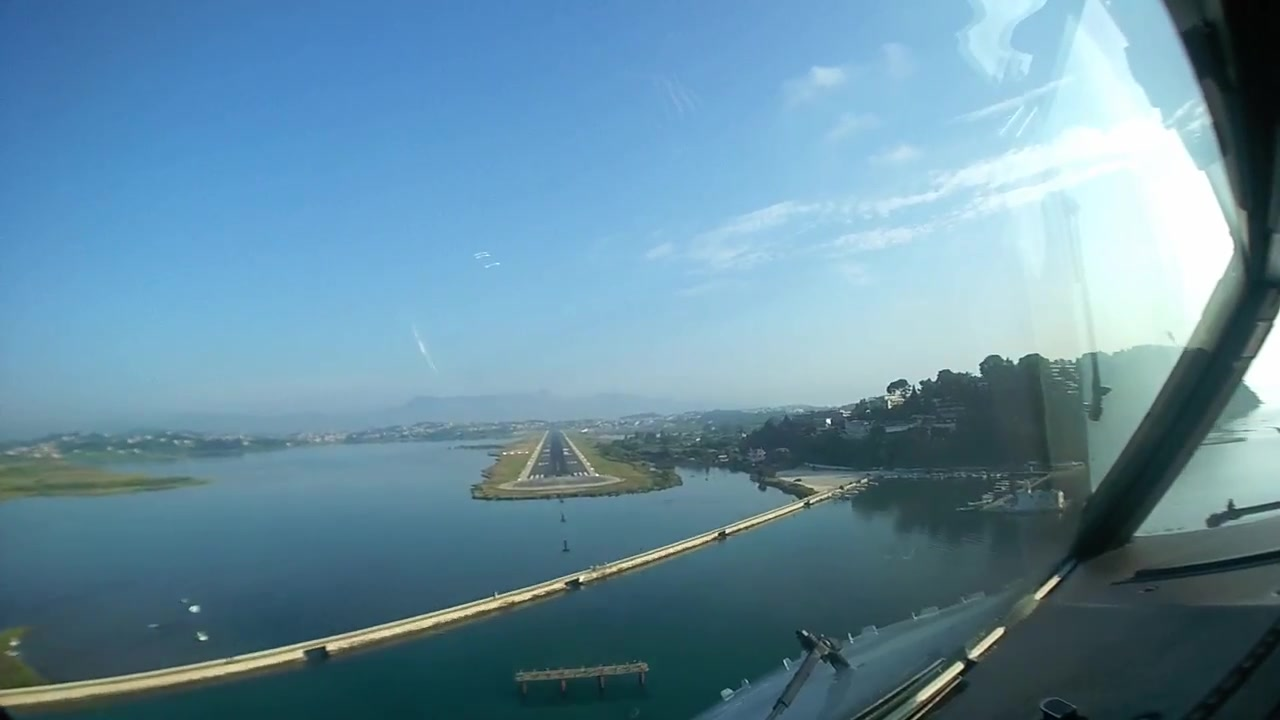entrance: (527, 471, 590, 480)
runway: (521, 434, 599, 484)
